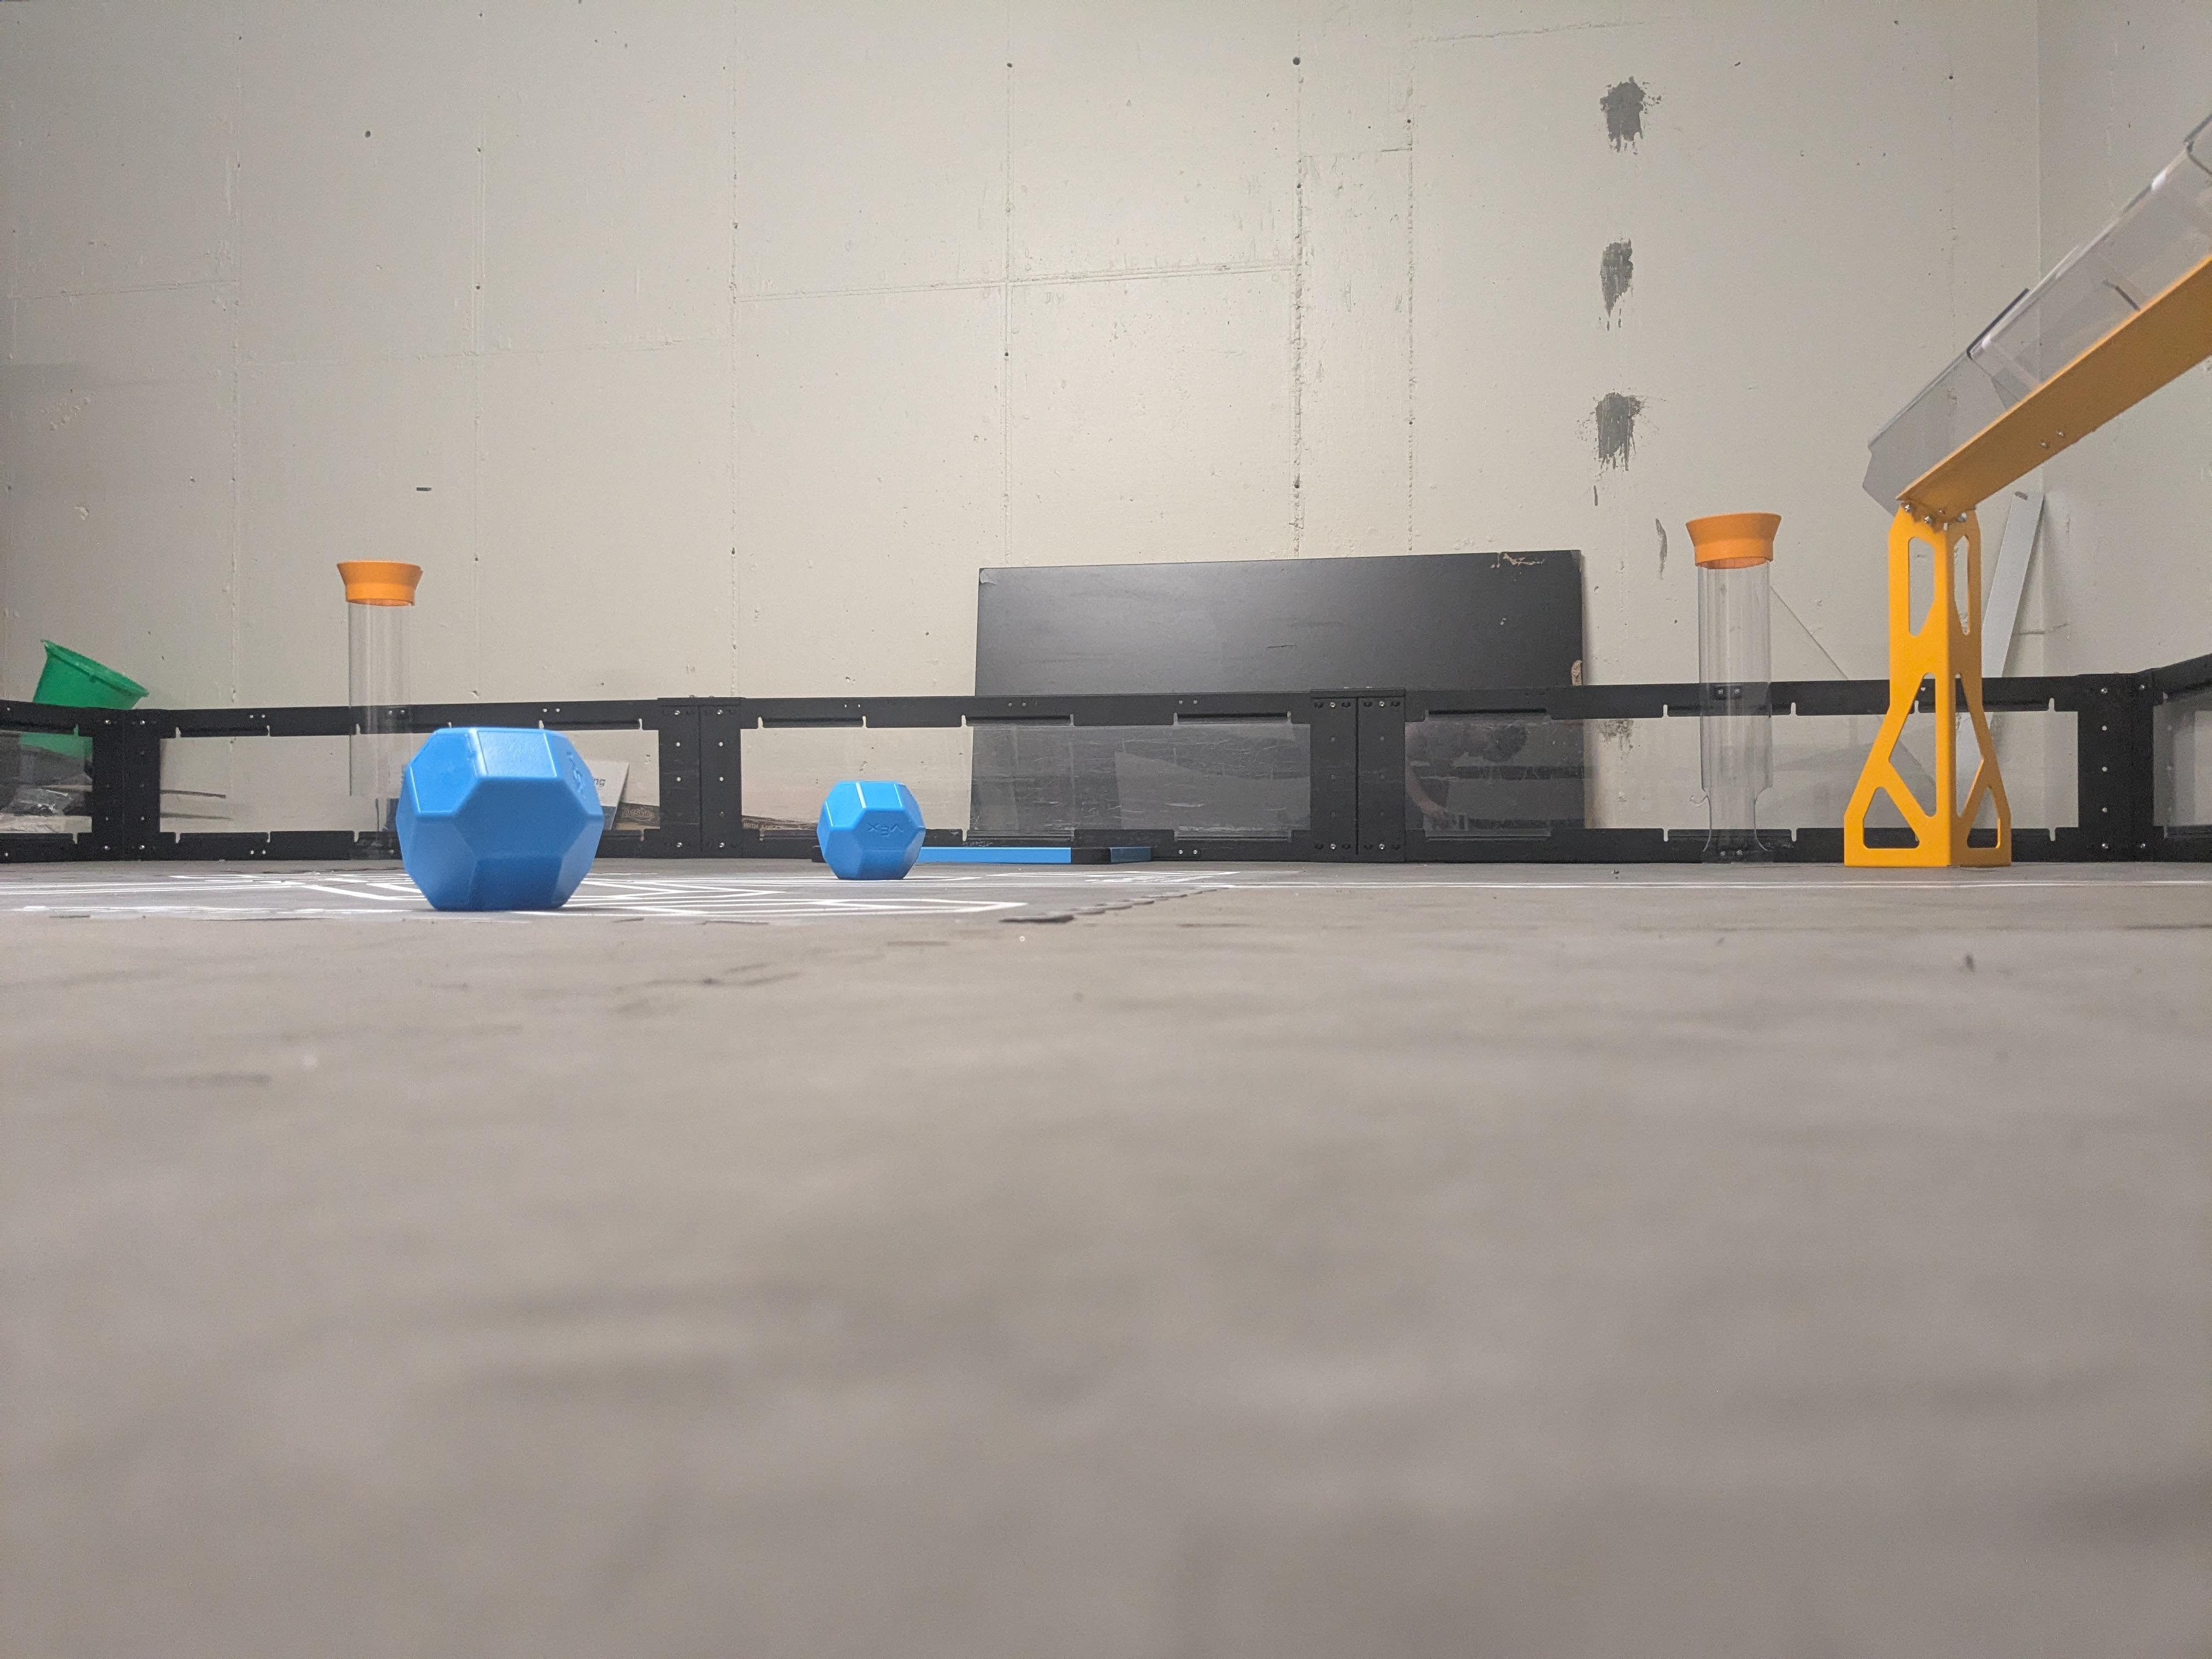Vex-Pieces-BLUE: (390, 727, 604, 906), (815, 781, 921, 878)
